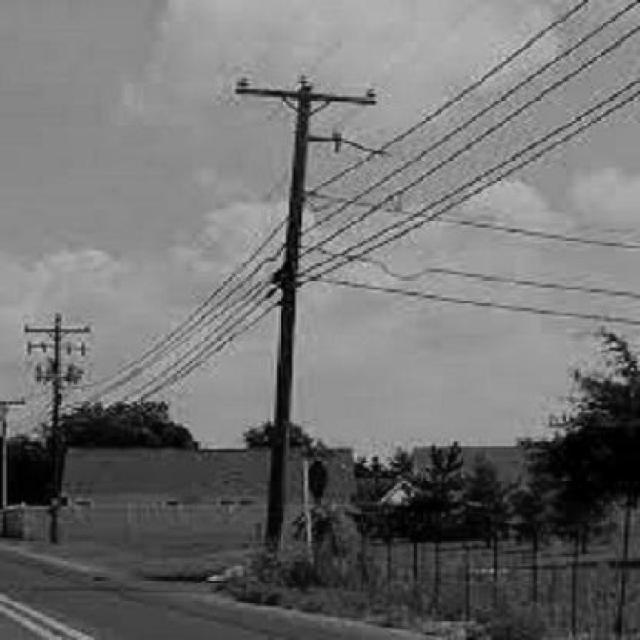Pole: (236, 76, 376, 548), (24, 314, 91, 499)
